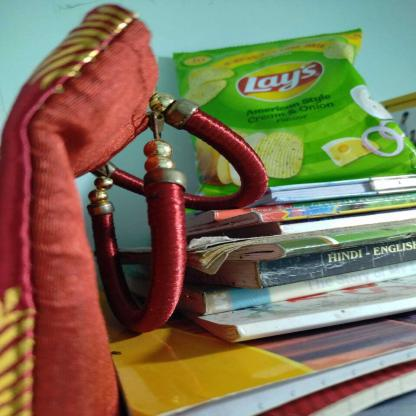cream_and_onion: (171, 27, 413, 207)
